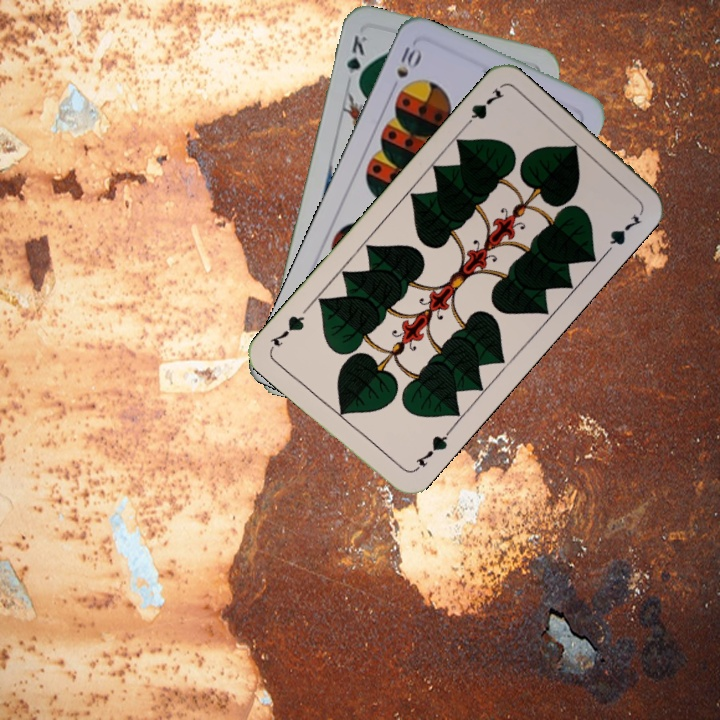G7: (459, 84, 507, 132), (409, 427, 453, 474)
GK: (342, 31, 370, 89)
S10: (392, 40, 425, 81)
